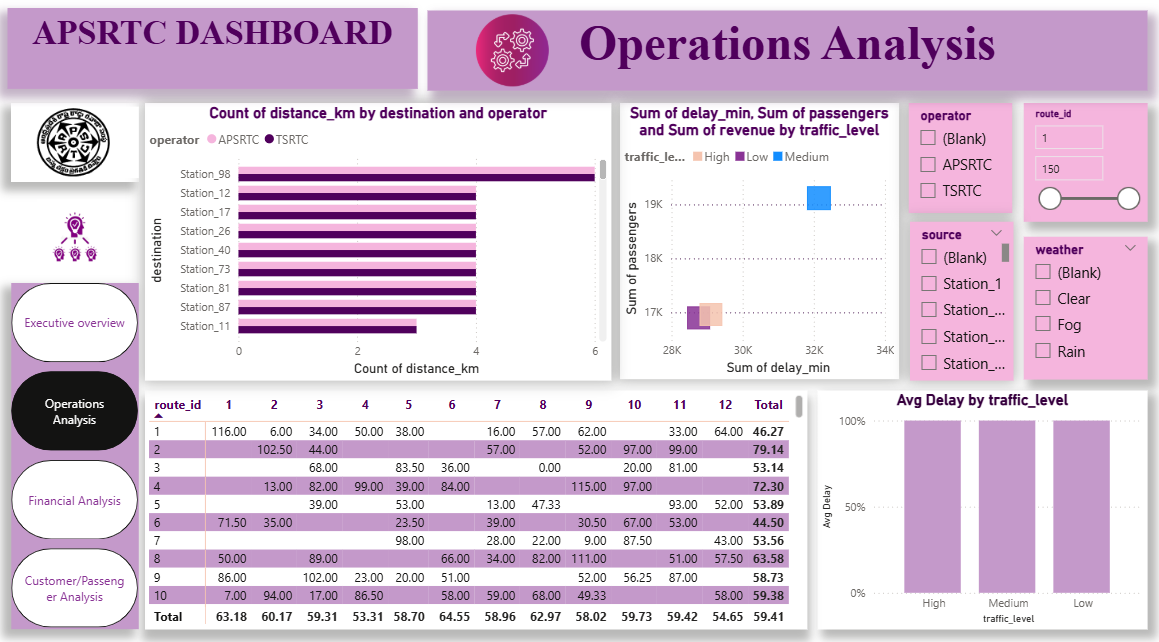

The page's visual inventory and layout, read from the dashboard file:
{"tool":"powerbi","page":{"name":"Operations Analysis","canvas":[1280,720],"ordinal":1},"visuals":[{"type":"clusteredBarChart","fields":{"Category":["fact_trips.route_id"],"Y":["CountNonNull(fact_trips.station_id)"],"Series":["dim_buses.operator"]},"box":[164.6,120.7,511.8,304.6],"z":0,"group":"g4"},{"type":"hundredPercentStackedColumnChart","fields":{"Category":["fact_trips.traffic_level"],"Y":["fact_trips.Avg Delay"]},"box":[902.9,436.4,362.3,262.1],"z":0,"group":"g13"},{"type":"textbox","box":[17.8,19.2,441.9,87.8],"z":1000,"group":"g3"},{"type":"textbox","box":[474.7,19.2,790.4,87.8],"z":2000,"group":"g2"},{"type":"scatterChart","fields":{"X":["Sum(fact_trips.delay_min)"],"Y":["Sum(fact_trips.passengers)"],"Size":["Sum(fact_trips.revenue)"],"Series":["fact_trips.traffic_level"]},"box":[686,120.7,306,303.3],"z":2000,"group":"g8"},{"type":"pageNavigator","box":[17.8,318.3,140,380.1],"z":3000,"group":"g6"},{"type":"pivotTable","fields":{"Rows":["dim_routes.route_id"],"Columns":["dim_dates.month"],"Values":["fact_trips.Avg Delay"]},"box":[164.6,436.4,727.3,262.1],"z":3000,"group":"g13"},{"type":"image","box":[17.8,120.7,140,86.4],"z":4000,"group":"g5"},{"type":"slicer","fields":{"Values":["fact_trips.weather"]},"box":[1129.3,267.6,135.8,156.4],"z":4000,"group":"g12"},{"type":"image","box":[496.7,23.3,142.7,79.6],"z":5000,"group":"g2"},{"type":"image","box":[17.8,226.4,140,82.3],"z":6000,"group":"g5"},{"type":"group","id":"g1","title":"Group 1","box":[164.6,120.7,1100.5,577.7],"z":7000,"group":"g7"},{"type":"slicer","fields":{"Values":["dim_buses.operator"]},"box":[1003,120.7,113.9,120.8],"z":7000,"group":"g9"},{"type":"group","id":"g2","title":"Group 8","box":[474.7,19.2,790.4,87.8],"z":7001,"group":"g3"},{"type":"group","id":"g3","title":"Group 9","box":[17.8,19.2,1247.3,87.8],"z":7002,"group":"g4"},{"type":"group","id":"g4","title":"Group 10","box":[17.8,19.2,1247.3,406.2],"z":7003,"group":"g7"},{"type":"group","id":"g5","title":"Group 11","box":[17.8,120.7,140,188],"z":7004,"group":"g6"},{"type":"group","id":"g6","title":"Group 12","box":[17.8,120.7,140,577.7],"z":7005,"group":"g7"},{"type":"group","id":"g7","title":"Group 13","box":[17.8,19.2,1247.3,679.2],"z":7006},{"type":"slicer","fields":{"Values":["dim_routes.source"]},"box":[1004.4,251.1,113.9,174.3],"z":8000,"group":"g11"},{"type":"slicer","fields":{"Values":["dim_routes.route_id"]},"box":[1129.3,120.7,135.8,130.4],"z":9000,"group":"g10"},{"type":"group","id":"g8","title":"Group 7","box":[164.6,120.7,1100.5,577.7],"z":11004,"group":"g1"},{"type":"group","id":"g9","title":"Group 6","box":[164.6,120.7,1100.5,577.7],"z":11004,"group":"g8"},{"type":"group","id":"g10","title":"Group 5","box":[164.6,120.7,1100.5,577.7],"z":11004,"group":"g9"},{"type":"group","id":"g11","title":"Group 4","box":[164.6,251.1,1100.5,447.3],"z":11004,"group":"g10"},{"type":"group","id":"g12","title":"Group 3","box":[164.6,267.6,1100.5,430.9],"z":11004,"group":"g11"},{"type":"group","id":"g13","title":"Group 2","box":[164.6,436.4,1100.5,262.1],"z":11004,"group":"g12"}]}

Visuals, with their boxes in screenshot pixels (x1, y1, x2, y2), scaled from the page's 1280x720 canvas onto the 1159x642 screenshot:
clusteredBarChart - fact_trips.route_id x CountNonNull(fact_trips.station_id): [149,108,612,379]
hundredPercentStackedColumnChart - fact_trips.traffic_level x fact_trips.Avg Delay: [818,389,1146,623]
textbox: [16,17,416,95]
textbox: [430,17,1146,95]
scatterChart - Sum(fact_trips.delay_min) x Sum(fact_trips.passengers): [621,108,898,378]
pageNavigator: [16,284,143,623]
pivotTable - dim_routes.route_id x dim_dates.month: [149,389,808,623]
image: [16,108,143,185]
slicer - fact_trips.weather: [1023,239,1146,378]
image: [450,21,579,92]
image: [16,202,143,275]
"Group 1" group: [149,108,1146,623]
slicer - dim_buses.operator: [908,108,1011,215]
"Group 8" group: [430,17,1146,95]
"Group 9" group: [16,17,1146,95]
"Group 10" group: [16,17,1146,379]
"Group 11" group: [16,108,143,275]
"Group 12" group: [16,108,143,623]
"Group 13" group: [16,17,1146,623]
slicer - dim_routes.source: [909,224,1013,379]
slicer - dim_routes.route_id: [1023,108,1146,224]
"Group 7" group: [149,108,1146,623]
"Group 6" group: [149,108,1146,623]
"Group 5" group: [149,108,1146,623]
"Group 4" group: [149,224,1146,623]
"Group 3" group: [149,239,1146,623]
"Group 2" group: [149,389,1146,623]
